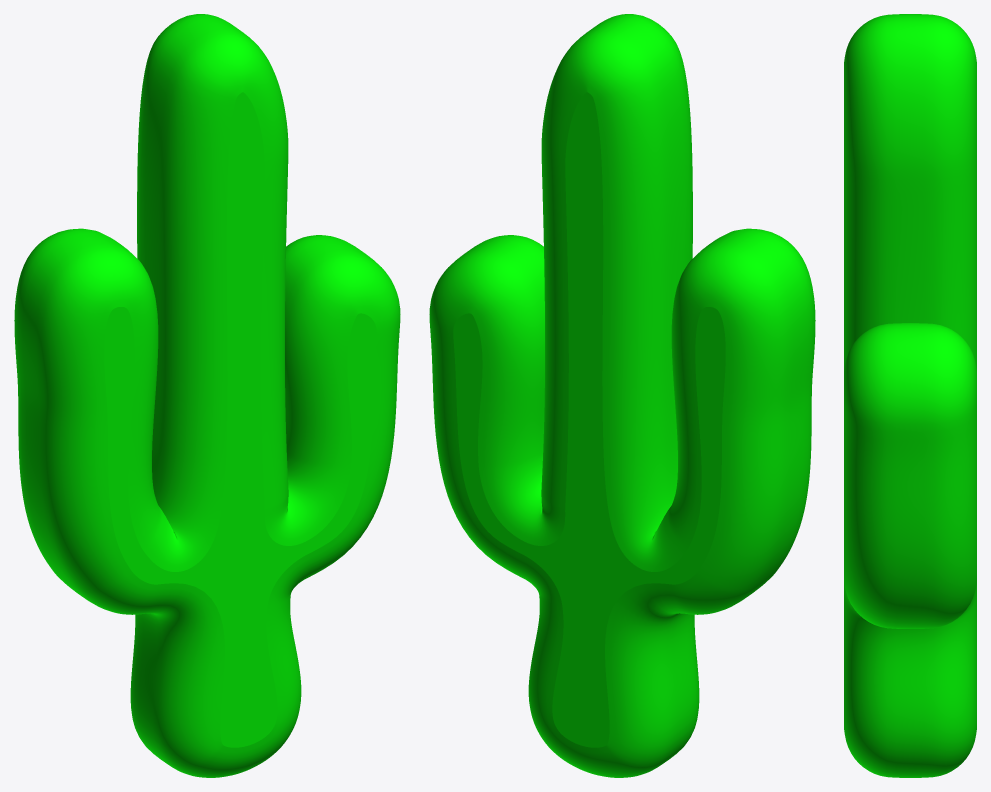
File: xPS_AR0.glb
3 views of the same model, side by side, from view 1: azimuth 30°, elevation 25°; view 2: azimuth 150°, elevation 25°; view 3: azimuth 270°, elevation 25° (orthographic).
Visible parts, largest first — view 1: Curve.001; view 2: Curve.001; view 3: Curve.001.
Part boxes in pixels (bbox=[...]): Curve.001: bbox=[14, 14, 400, 777]; Curve.001: bbox=[429, 14, 815, 777]; Curve.001: bbox=[844, 14, 976, 777].
Size of what is drawn, in the model's own units: 0.8612 by 1.71 by 0.2759.
